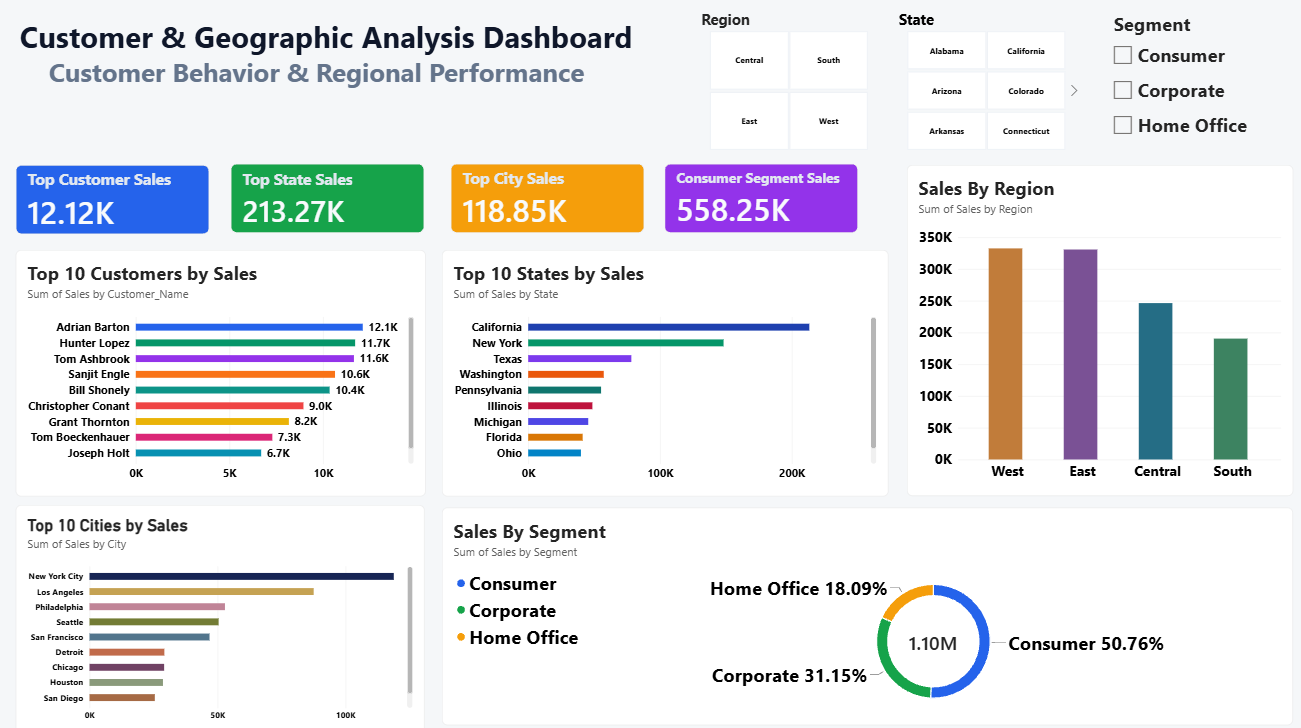

Layout of this report page (visuals, bound fields, positions):
{"tool":"powerbi","page":{"name":"Customer & Geographic Analysis","canvas":[1920,1080],"ordinal":2},"visuals":[{"type":"textbox","box":[12.7,27.1,977.2,133.9],"z":0},{"type":"slicer","fields":{"Values":["Superstore Cleaned 1.Region"]},"box":[1033.3,27.1,268,206],"z":1},{"type":"slicer","fields":{"Values":["Superstore Cleaned 1.State"]},"box":[1319.2,27.1,268,206],"z":2},{"type":"slicer","fields":{"Values":["Superstore Cleaned 1.Segment"]},"box":[1630.5,30.8,268,206],"z":3},{"type":"cardVisual","fields":{"Data":["Superstore Cleaned 1.Top Customer Sales"]},"box":[48.9,253.4,280,100],"z":4},{"type":"cardVisual","fields":{"Data":["Superstore Cleaned 1.Top State Sales"]},"box":[360.1,251.5,280,100],"z":5},{"type":"cardVisual","fields":{"Data":["Superstore Cleaned 1.Top City Sales"]},"box":[678.6,251.5,280,100],"z":6},{"type":"cardVisual","fields":{"Data":["Superstore Cleaned 1.Consumer Sales"]},"box":[988.1,251.5,280,100],"z":7},{"type":"clusteredBarChart","title":"Top 10 Customers by Sales","fields":{"Category":["Superstore Cleaned 1.Customer_Name"],"Y":["Sum(Superstore Cleaned 1.Sales)"]},"box":[48.9,376.4,593.6,356.5],"z":8},{"type":"clusteredBarChart","title":"Top 10 States by Sales","fields":{"Category":["Superstore Cleaned 1.State"],"Y":["Sum(Superstore Cleaned 1.Sales)"]},"box":[666,376.4,646,356.5],"z":9},{"type":"clusteredBarChart","title":"Top 10 Cities by Sales","fields":{"Category":["Superstore Cleaned 1.City"],"Y":["Sum(Superstore Cleaned 1.Sales)"]},"box":[48.9,745.6,591.8,334.8],"z":10},{"type":"donutChart","title":"Sales By Segment","fields":{"Category":["Superstore Cleaned 1.Segment"],"Y":["Sum(Superstore Cleaned 1.Sales)"]},"box":[666,749.2,1232.4,314.9],"z":11},{"type":"clusteredColumnChart","title":"Sales By Region","fields":{"Category":["Superstore Cleaned 1.Region"],"Y":["Sum(Superstore Cleaned 1.Sales)"]},"box":[1339.1,253.4,559.2,479.6],"z":12}]}

Visuals, with their boxes in screenshot pixels (x1, y1, x2, y2), scaled from the page's 1920x1080 canvas onto the 1301x728 screenshot:
textbox: box=[9, 18, 671, 109]
slicer - Superstore Cleaned 1.Region: box=[700, 18, 882, 157]
slicer - Superstore Cleaned 1.State: box=[894, 18, 1075, 157]
slicer - Superstore Cleaned 1.Segment: box=[1105, 21, 1286, 160]
cardVisual - Superstore Cleaned 1.Top Customer Sales: box=[33, 171, 223, 238]
cardVisual - Superstore Cleaned 1.Top State Sales: box=[244, 170, 434, 237]
cardVisual - Superstore Cleaned 1.Top City Sales: box=[460, 170, 650, 237]
cardVisual - Superstore Cleaned 1.Consumer Sales: box=[670, 170, 859, 237]
"Top 10 Customers by Sales" clusteredBarChart: box=[33, 254, 435, 494]
"Top 10 States by Sales" clusteredBarChart: box=[451, 254, 889, 494]
"Top 10 Cities by Sales" clusteredBarChart: box=[33, 503, 434, 727]
"Sales By Segment" donutChart: box=[451, 505, 1286, 717]
"Sales By Region" clusteredColumnChart: box=[907, 171, 1286, 494]
